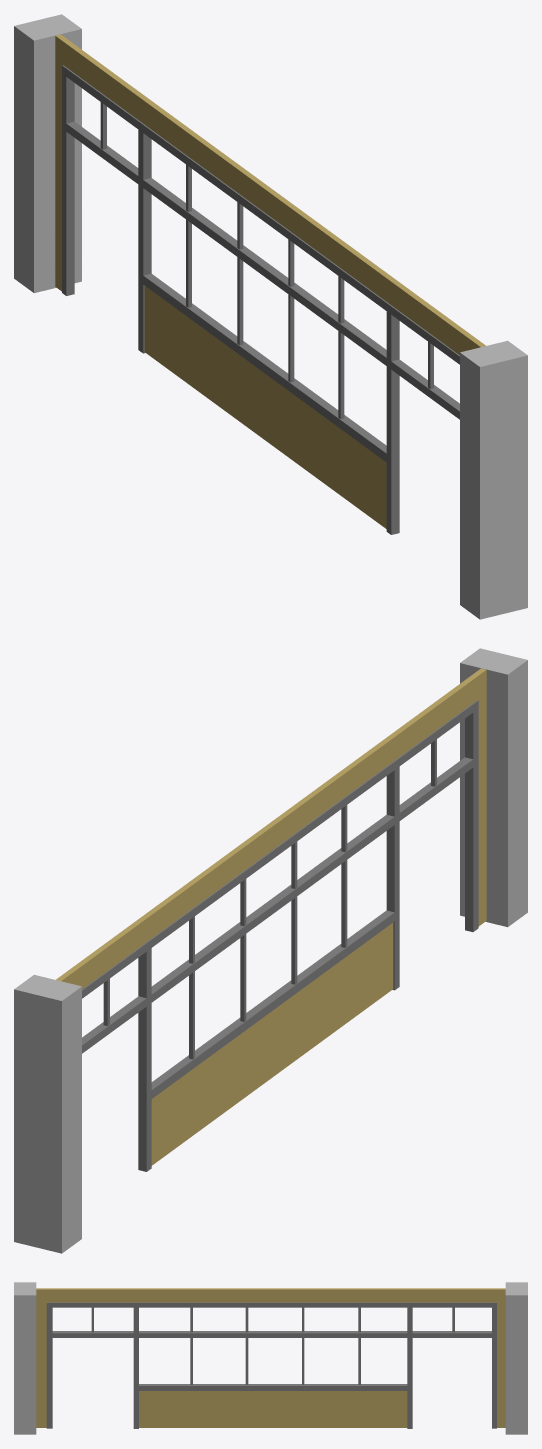
Rendered from wall_doors.glb.
3 views of the same model, one above another, from view 1: azimuth 30°, elevation 25°; view 2: azimuth 150°, elevation 25°; view 3: azimuth 270°, elevation 25° (orthographic). The views are drawn at different scales.
Visible parts, largest first — view 1: pCube32.001; view 2: pCube32.001; view 3: pCube32.001.
Part boxes in pixels (x1,y1,x2,y2): pCube32.001: [14, 14, 527, 619]; pCube32.001: [14, 648, 527, 1253]; pCube32.001: [14, 1282, 527, 1434].
Size of the model in its own units: 0.5334 by 2.68 by 8.98.
